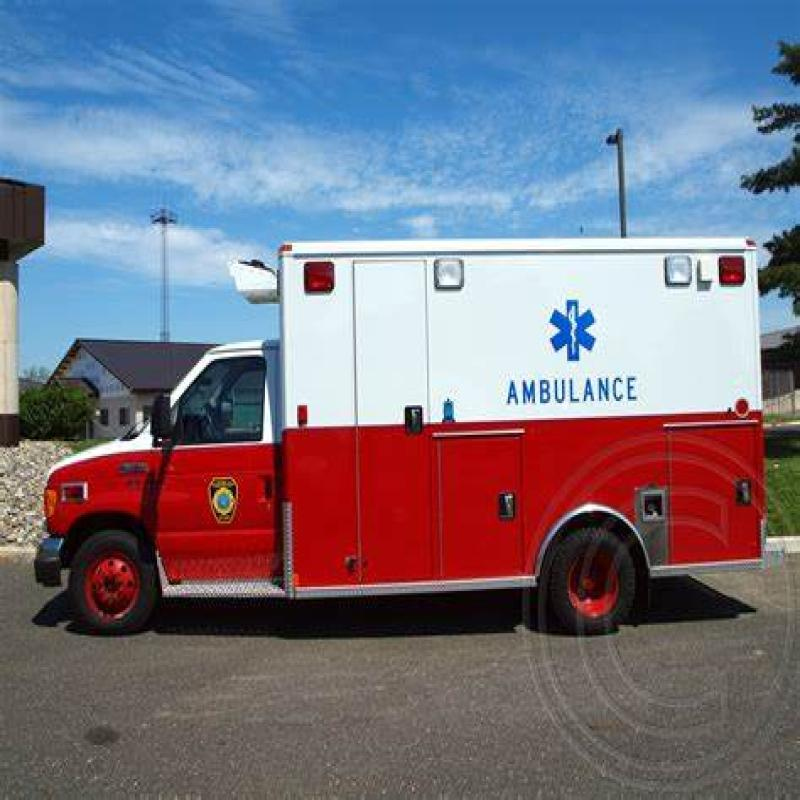AmbulanceSiren: (274, 241, 472, 297)
